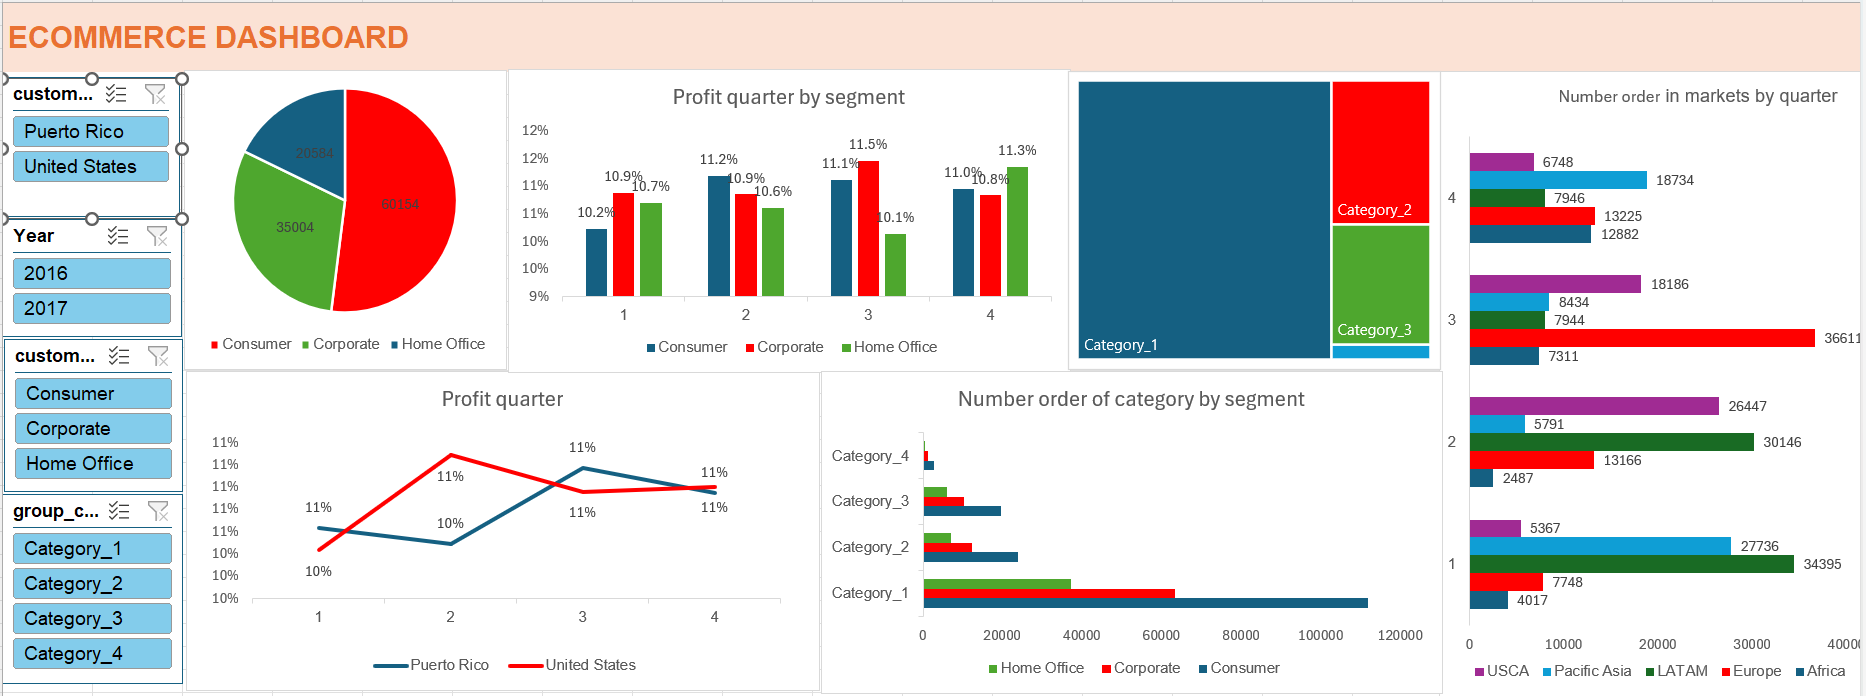

Layout of this report page (visuals, bound fields, positions):
{"tool":"powerbi","page":{"name":"Overview","canvas":[1280,720],"ordinal":0},"visuals":[{"type":"textbox","box":[407.2,0,568.6,50.1],"z":0},{"type":"card","fields":{"Values":["ecommerce_order.Total Revenue"]},"box":[140.6,50.1,176.1,96.6],"z":1000},{"type":"card","fields":{"Values":["ecommerce_order.YTD Revenue"]},"box":[317.9,50.1,194.4,51.4],"z":2000},{"type":"card","fields":{"Values":["ecommerce_order.Diff Revenue"]},"box":[318.4,102.9,109.8,43.9],"z":3000},{"type":"card","fields":{"Values":["ecommerce_order.YOY Revenue"]},"box":[428.1,102.9,83.7,43.9],"z":4000},{"type":"card","fields":{"Values":["ecommerce_order.Total Profit"]},"box":[524.6,50.1,177.3,96.6],"z":5000},{"type":"card","fields":{"Values":["ecommerce_order.YTD Profit"]},"box":[703.1,50.1,193.2,51.4],"z":6000},{"type":"card","fields":{"Values":["ecommerce_order.Diff Profit"]},"box":[703.1,102.7,108.8,44],"z":7000},{"type":"card","fields":{"Values":["ecommerce_order.Total Order"]},"box":[908.6,50.1,177.3,96.6],"z":8000},{"type":"card","fields":{"Values":["ecommerce_order.YTD Order"]},"box":[1086.8,50.1,193.2,51.4],"z":9000},{"type":"card","fields":{"Values":["ecommerce_order.Diff Order"]},"box":[1086.8,102.9,109.8,43.9],"z":10000},{"type":"card","fields":{"Values":["ecommerce_order.YOY Order"]},"box":[1196.6,102.9,83.7,43.9],"z":11000},{"type":"card","fields":{"Values":["ecommerce_order.YOY Profit"]},"box":[813.2,102.7,84.4,44],"z":12000},{"type":"slicer","fields":{"Values":["calendar.Date_format"]},"box":[1023.5,0,215.2,40.4],"z":13000},{"type":"areaChart","title":"Revenue Weekly Trend","fields":{"Category":["calendar.Week_No"],"Y":["ecommerce_order.Total Revenue","ecommerce_order.MaxPoint"]},"box":[140.6,170,370.5,209.1],"z":14000},{"type":"areaChart","title":"Profit Weekly Trend","fields":{"Category":["calendar.Week_No"],"Y":["ecommerce_order.Total Profit","ecommerce_order.MaxPoint Profit"]},"box":[524.6,171.2,370.5,207.9],"z":15000},{"type":"areaChart","title":"Revenue Weekly Trend","fields":{"Category":["calendar.Week_No"],"Y":["ecommerce_order.Total Order","ecommerce_order.MaxPoint Order"]},"box":[909.8,172.4,370.5,206.7],"z":16000},{"type":"donutChart","title":"Revenue by country","fields":{"Y":["ecommerce_order.Total Revenue"],"Category":["ecommerce_customer.customer_country"]},"box":[140,407.5,211.3,288.2],"z":17000},{"type":"donutChart","title":"Revenue by segment","fields":{"Y":["ecommerce_order.Total Revenue"],"Category":["ecommerce_customer.customer_segment"]},"box":[364.4,407.2,221.3,288.6],"z":18000},{"type":"clusteredBarChart","title":"Top 5 Customer","fields":{"Y":["ecommerce_order.Total Order"],"Category":["ecommerce_customer.customer_fname"]},"box":[602.9,407.2,194.4,288.6],"z":19000},{"type":"clusteredBarChart","title":"Top 10 Category","fields":{"Y":["ecommerce_order.Total Order"],"Category":["ecommerce_order.category_name"]},"box":[813.7,407.5,223.7,288.2],"z":20000},{"type":"textbox","box":[0,75.8,140.6,33],"z":21000},{"type":"textbox","box":[0,275.1,140.6,33],"z":22000},{"type":"slicer","fields":{"Values":["ecommerce_customer.customer_city"]},"box":[0,392.5,124.7,66],"z":23000},{"type":"slicer","fields":{"Values":["ecommerce_customer.customer_segment"]},"box":[0,470.8,124.7,64.8],"z":24000},{"type":"slicer","fields":{"Values":["ecommerce_order.market"]},"box":[0,551.5,124.7,62.4],"z":25000},{"type":"slicer","fields":{"Values":["ecommerce_order.category_name"]},"box":[0,629.8,124.7,66],"z":26000},{"type":"pageNavigator","box":[0,124.7,124.7,135.7],"z":27000},{"type":"slicer","fields":{"Values":["ecommerce_customer.customer_country"]},"box":[0,313,124.7,66],"z":28000},{"type":"clusteredBarChart","title":"Top 10 City","fields":{"Y":["ecommerce_order.Total Order"],"Category":["ecommerce_customer.customer_city"]},"box":[1051.6,407.2,223.8,288.6],"z":28001}]}

Visuals, with their boxes on the page's 1280x720 design canvas (x1, y1, x2, y2). These are canvas units, not pixel positions in the 1866x696 screenshot, which may show the page scaled, cropped or inside an application window:
textbox: <box>407,0,976,50</box>
card - ecommerce_order.Total Revenue: <box>141,50,317,147</box>
card - ecommerce_order.YTD Revenue: <box>318,50,512,102</box>
card - ecommerce_order.Diff Revenue: <box>318,103,428,147</box>
card - ecommerce_order.YOY Revenue: <box>428,103,512,147</box>
card - ecommerce_order.Total Profit: <box>525,50,702,147</box>
card - ecommerce_order.YTD Profit: <box>703,50,896,102</box>
card - ecommerce_order.Diff Profit: <box>703,103,812,147</box>
card - ecommerce_order.Total Order: <box>909,50,1086,147</box>
card - ecommerce_order.YTD Order: <box>1087,50,1280,102</box>
card - ecommerce_order.Diff Order: <box>1087,103,1197,147</box>
card - ecommerce_order.YOY Order: <box>1197,103,1280,147</box>
card - ecommerce_order.YOY Profit: <box>813,103,898,147</box>
slicer - calendar.Date_format: <box>1024,0,1239,40</box>
"Revenue Weekly Trend" areaChart: <box>141,170,511,379</box>
"Profit Weekly Trend" areaChart: <box>525,171,895,379</box>
"Revenue Weekly Trend" areaChart: <box>910,172,1280,379</box>
"Revenue by country" donutChart: <box>140,408,351,696</box>
"Revenue by segment" donutChart: <box>364,407,586,696</box>
"Top 5 Customer" clusteredBarChart: <box>603,407,797,696</box>
"Top 10 Category" clusteredBarChart: <box>814,408,1037,696</box>
textbox: <box>0,76,141,109</box>
textbox: <box>0,275,141,308</box>
slicer - ecommerce_customer.customer_city: <box>0,392,125,458</box>
slicer - ecommerce_customer.customer_segment: <box>0,471,125,536</box>
slicer - ecommerce_order.market: <box>0,552,125,614</box>
slicer - ecommerce_order.category_name: <box>0,630,125,696</box>
pageNavigator: <box>0,125,125,260</box>
slicer - ecommerce_customer.customer_country: <box>0,313,125,379</box>
"Top 10 City" clusteredBarChart: <box>1052,407,1275,696</box>
